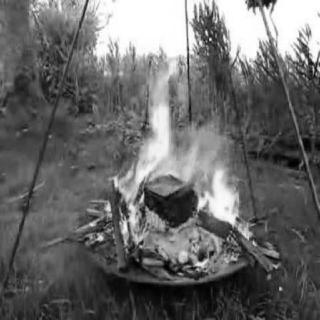Fire: (80, 51, 267, 261)
